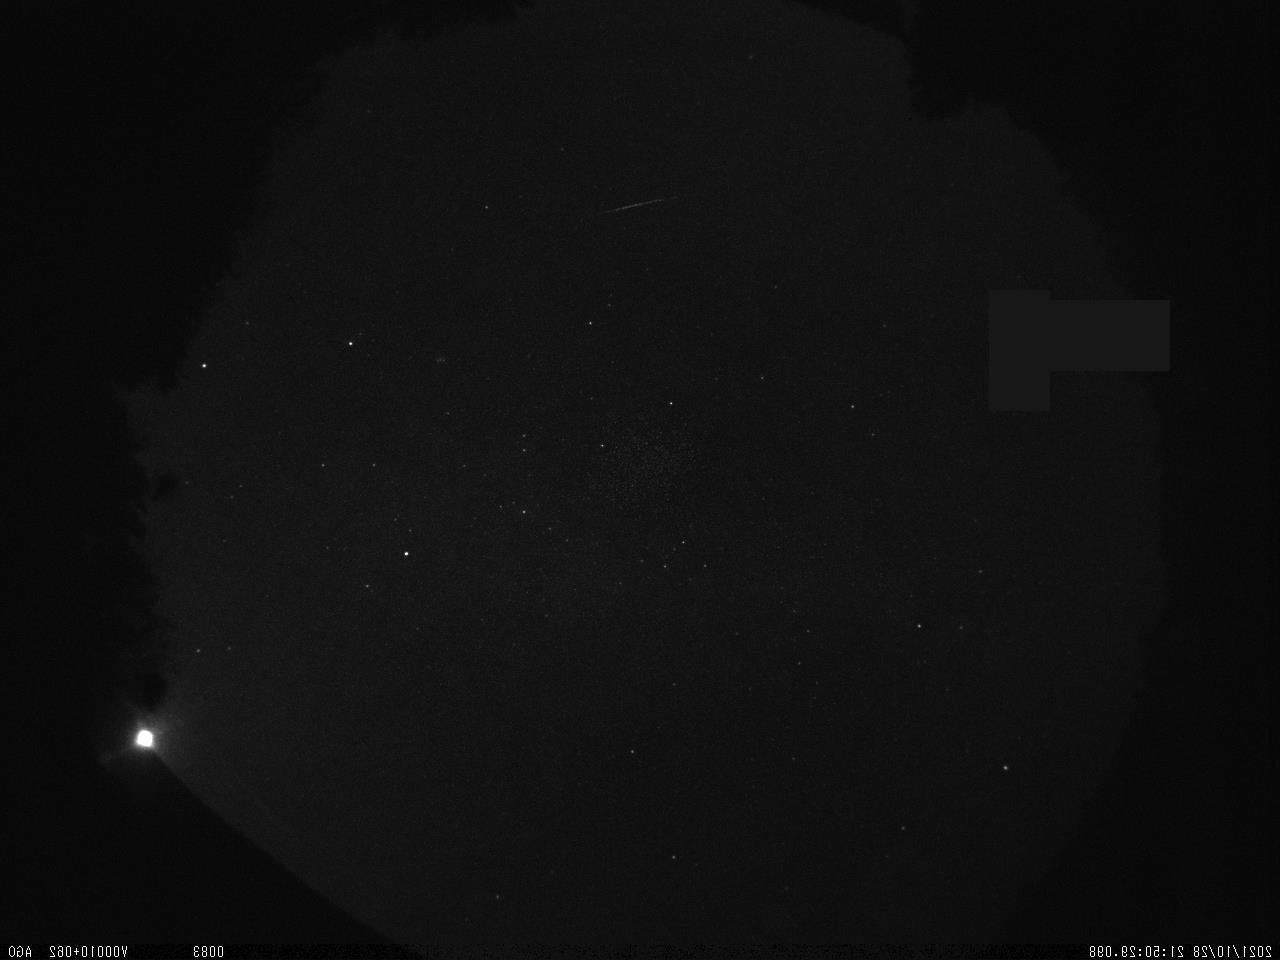meteor: (566, 187, 702, 220)
